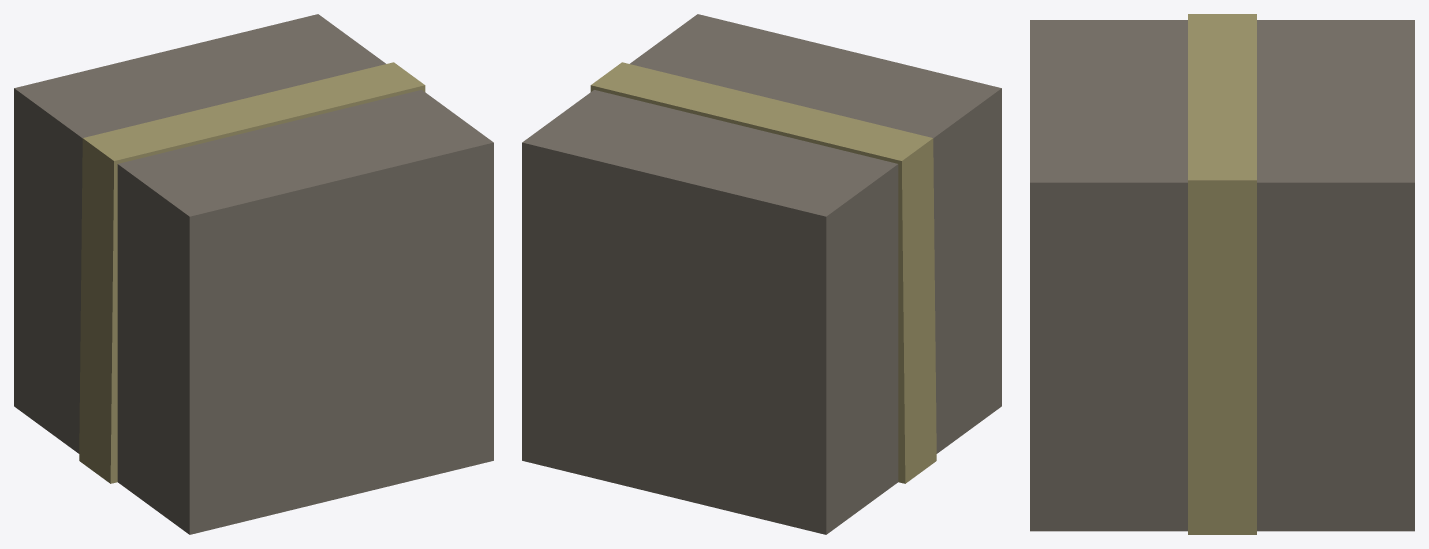
The model's file is squarebox_close.fbx.
3 views of the same model, side by side, from view 1: azimuth 30°, elevation 25°; view 2: azimuth 150°, elevation 25°; view 3: azimuth 270°, elevation 25° (orthographic). The views are drawn at different scales.
Parts seen in each view (by area): view 1: polySurface10, tape; view 2: polySurface10, tape; view 3: polySurface10, tape.
Part boxes in pixels (<box>): polySurface10: <box>14,14,493,534</box>; tape: <box>79,62,425,483</box>; polySurface10: <box>522,14,1001,534</box>; tape: <box>590,62,936,483</box>; polySurface10: <box>1030,20,1414,531</box>; tape: <box>1188,14,1256,534</box>.
Bounding box in the file's own units: 3.19 × 3.08 × 3.05.
Materials: 2 (2 with a texture image).
